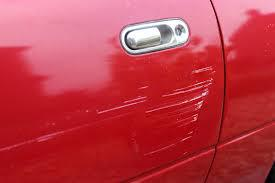doorouter-dent: (58, 12, 229, 172)
